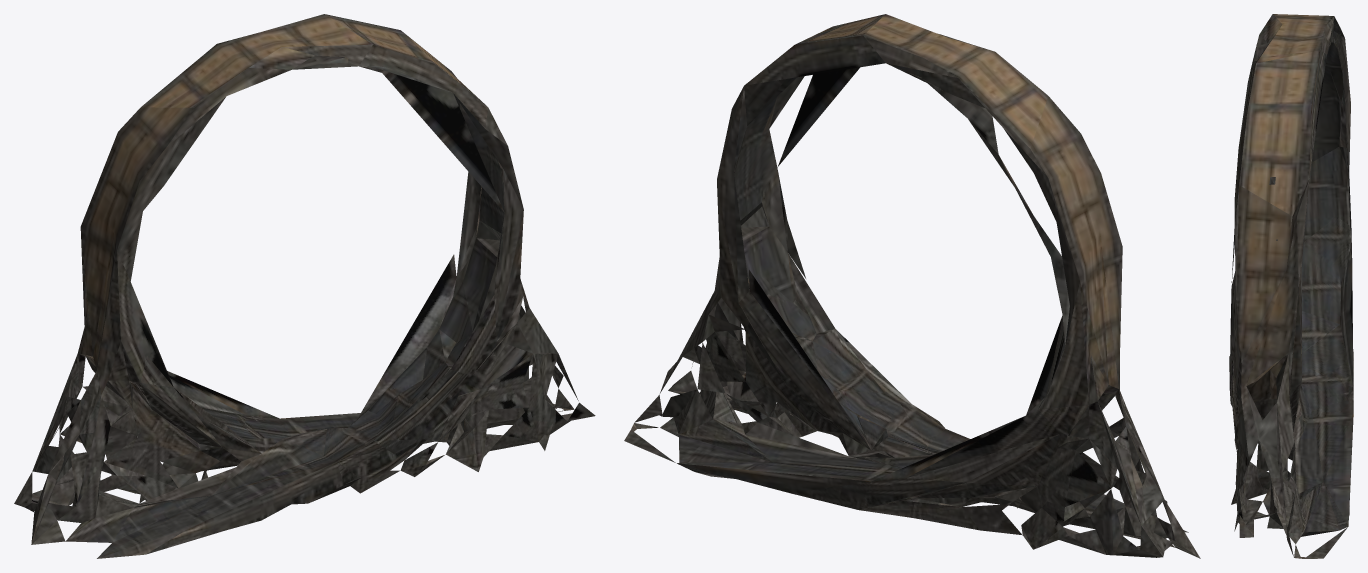
Rendered from stunt-loop-ramp.lod.glb.
3 renders of one model, left to right at view 1: azimuth 30°, elevation 25°; view 2: azimuth 150°, elevation 25°; view 3: azimuth 270°, elevation 25°, orthographic. The views are drawn at different scales.
Visible parts, largest first — view 1: output_unwrapped; view 2: output_unwrapped; view 3: output_unwrapped.
Part boxes in pixels (left/top/right/bottom): output_unwrapped: left=14, top=14, right=595, bottom=558; output_unwrapped: left=624, top=14, right=1200, bottom=558; output_unwrapped: left=1229, top=14, right=1353, bottom=558.
Bounding box in the file's own units: 1.77 × 1.39 × 0.3846.
Materials: 1 (1 with a texture image).
